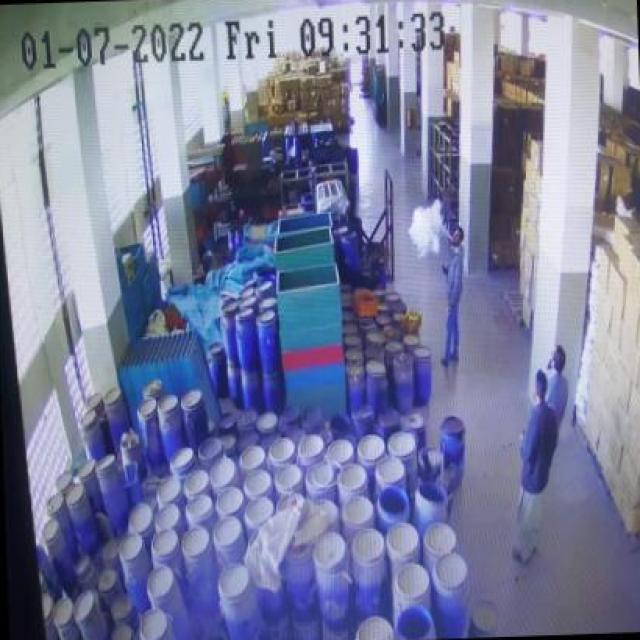fire: (406, 194, 448, 260)
